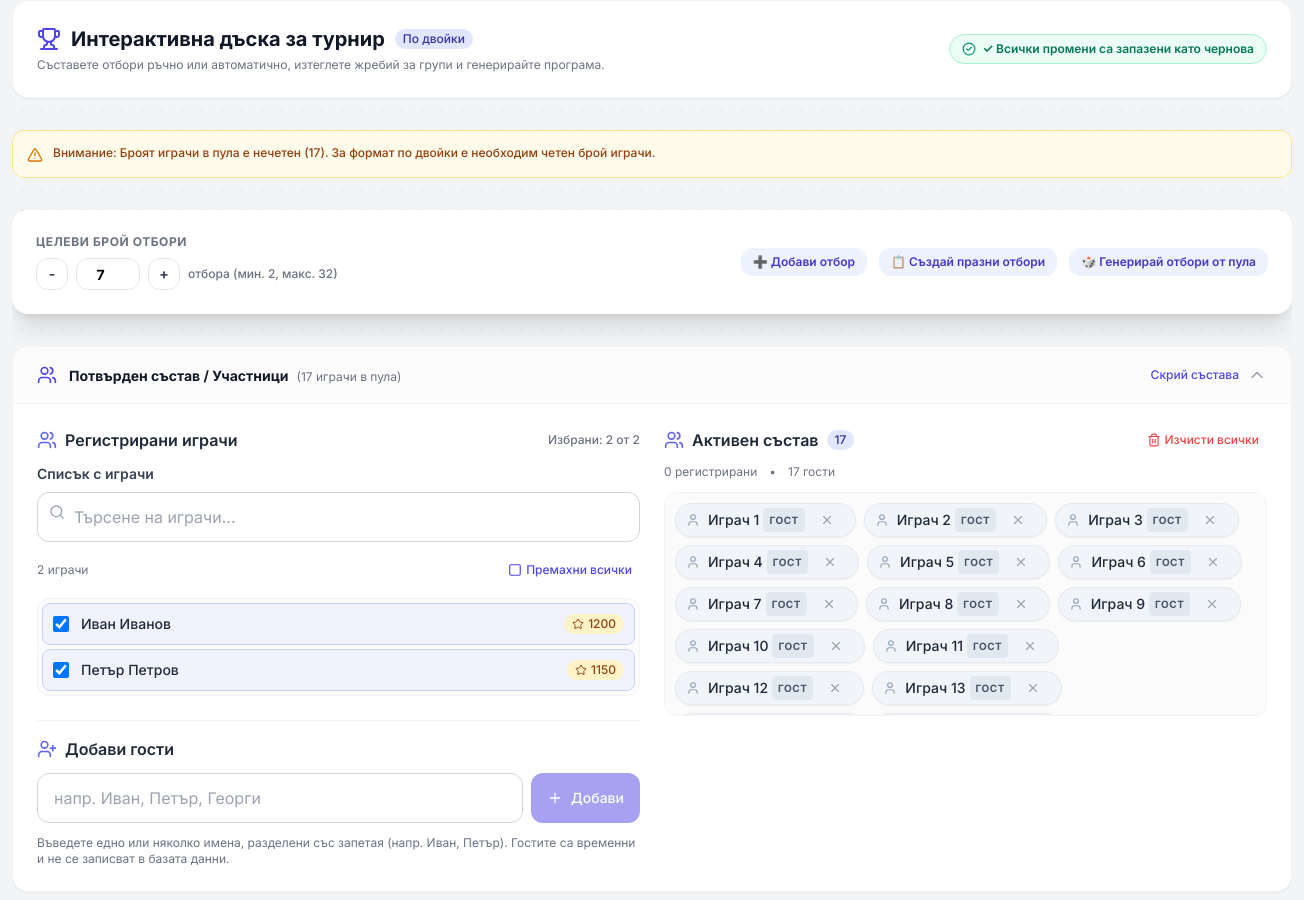
it: TournamentInteractiveBoard Component › Universal Mathematical Validation & Auto-Adjustment › P = 17, T = 7 (Case 1 with reserve): adapts target teams to 8 teams, generates 8 full teams with 1 reserve banner
Click the button "🎲 Генерирай отбори от пула": (1169, 262) left=1069, top=248, right=1268, bottom=276
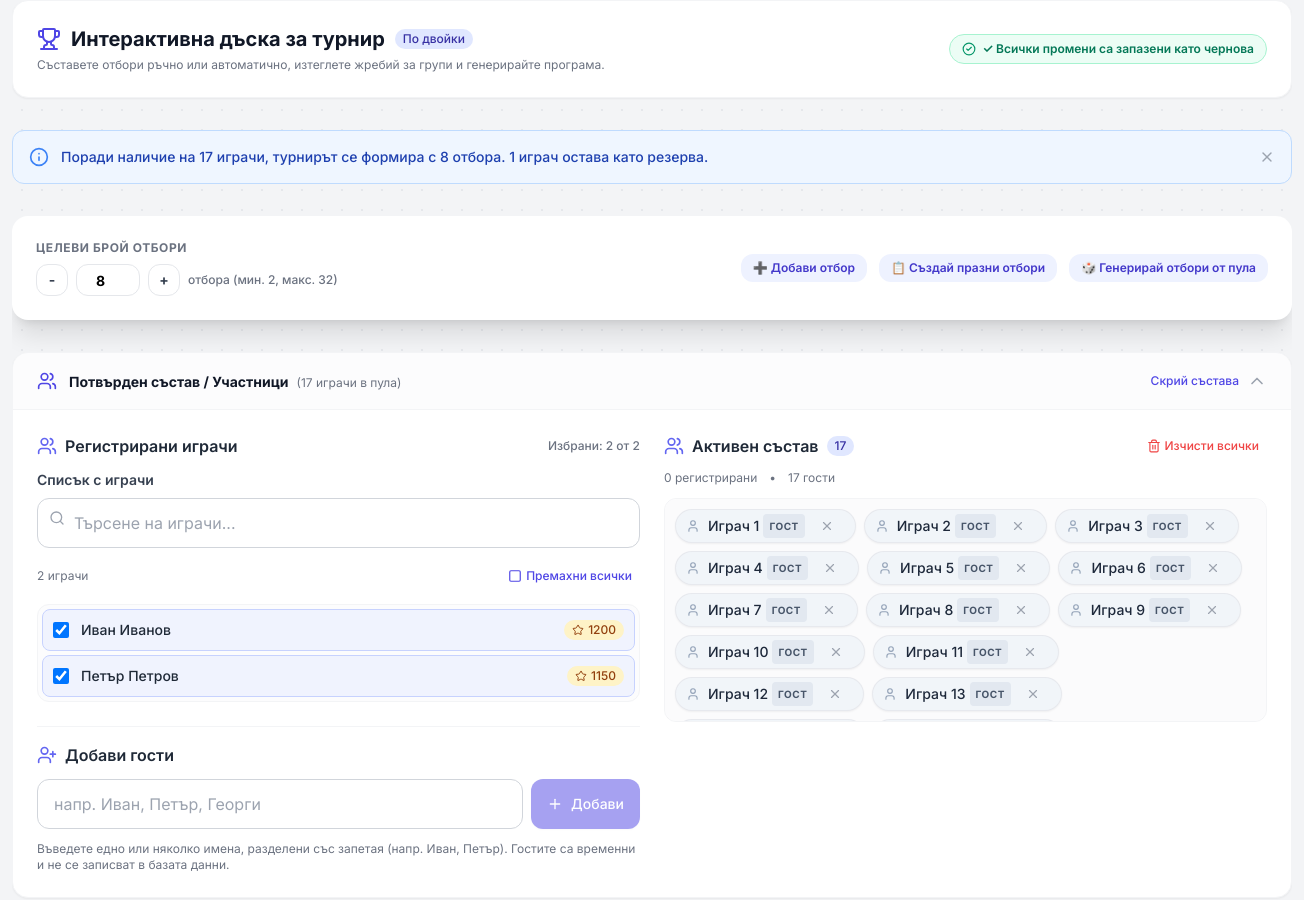
Now the number field labelled "Целеви брой отбори" holds "8", box left=76, top=264, right=140, bottom=296
Now the text "Поради наличие на 17 играчи, турнирът се формира с 8 отбора. 1 играч остава като резерва." is shown, box left=61, top=148, right=708, bottom=165
